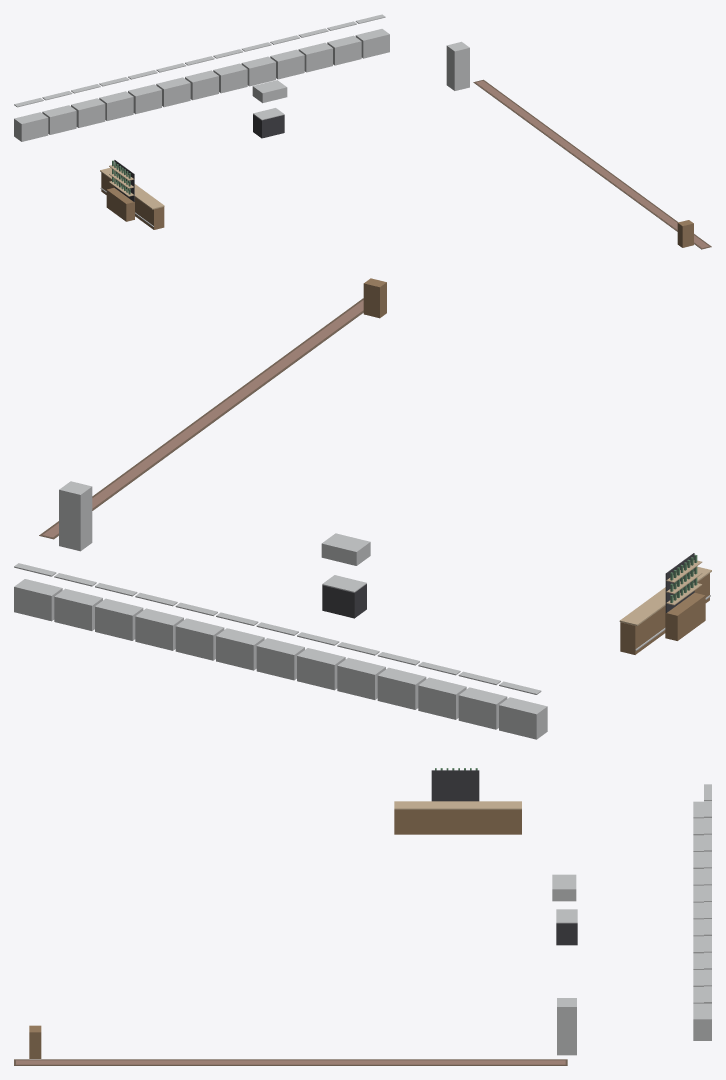
File: fine-s0.glb
3 views of the same model, one above another, from view 1: azimuth 30°, elevation 25°; view 2: azimuth 150°, elevation 25°; view 3: azimuth 270°, elevation 25° (orthographic). The views are drawn at different scales.
Visible parts, largest first — view 1: soft-s0, range.000, back-bar.000, fridge.000, kitchen-counter.000, kitchen-counter.002, kitchen-counter.003, kitchen-counter.009, kitchen-counter.012, kitchen-counter.006, kitchen-counter.010, kitchen-counter.007 (+7 smaller); view 2: soft-s0, range.000, back-bar.000, fridge.000, kitchen-counter.000, kitchen-counter.003, kitchen-counter.008, kitchen-counter.001, kitchen-counter.004, kitchen-counter.007, kitchen-counter.005, kitchen-counter.006 (+7 smaller); view 3: soft-s0, back-bar.000, range.000, fridge.000, bar-counter.003, bar-counter.000, bar-counter.001, bar-counter.002, kitchen-counter.012.
Boxes of the visible parts, x1,y1,x2,y2 form: soft-s0: [473, 79, 711, 249]; range.000: [252, 80, 287, 138]; back-bar.000: [106, 160, 134, 221]; fridge.000: [446, 41, 469, 90]; kitchen-counter.000: [14, 98, 48, 141]; kitchen-counter.002: [71, 84, 105, 127]; kitchen-counter.003: [99, 77, 133, 120]; kitchen-counter.009: [270, 35, 304, 79]; kitchen-counter.012: [355, 14, 389, 58]; kitchen-counter.006: [185, 56, 218, 100]; kitchen-counter.010: [298, 28, 332, 72]; kitchen-counter.007: [213, 49, 247, 93]; soft-s0: [39, 298, 363, 539]; range.000: [321, 533, 370, 618]; back-bar.000: [665, 553, 705, 640]; fridge.000: [59, 481, 92, 551]; kitchen-counter.000: [499, 681, 547, 739]; kitchen-counter.003: [377, 652, 426, 709]; kitchen-counter.008: [175, 602, 224, 660]; kitchen-counter.001: [458, 671, 507, 729]; kitchen-counter.004: [337, 642, 385, 699]; kitchen-counter.007: [216, 612, 264, 670]; kitchen-counter.005: [297, 632, 345, 690]; kitchen-counter.006: [256, 622, 304, 680]; soft-s0: [14, 1059, 567, 1065]; back-bar.000: [431, 768, 479, 801]; range.000: [552, 874, 577, 945]; fridge.000: [557, 998, 576, 1055]; bar-counter.003: [394, 801, 426, 834]; bar-counter.000: [490, 801, 521, 834]; bar-counter.001: [458, 801, 489, 834]; bar-counter.002: [426, 801, 457, 834]; kitchen-counter.012: [693, 986, 711, 1040].
Size of the model in its own units: 21.78 by 2.35 by 26.26.
